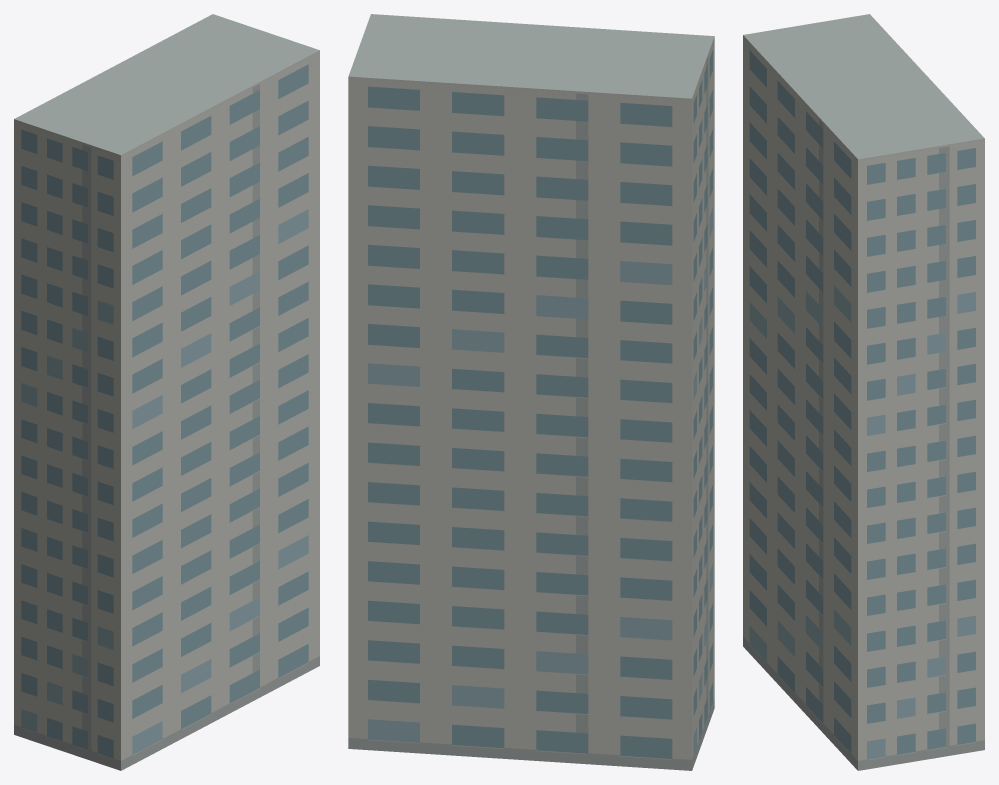
Rendered from residential-b6b8a553-4b9b-4166-84dd-e62b3b249bd4.glb.
The picture shows the model from 3 angles, left to right: view 1: azimuth 30°, elevation 25°; view 2: azimuth 150°, elevation 25°; view 3: azimuth 270°, elevation 25°; orthographic projection. The views are drawn at different scales.
Parts seen in each view (by area): view 1: residential-b6b8a553-4b9b-4166-84dd-e62b3b249bd4.tmp; view 2: residential-b6b8a553-4b9b-4166-84dd-e62b3b249bd4.tmp; view 3: residential-b6b8a553-4b9b-4166-84dd-e62b3b249bd4.tmp.
Part boxes in pixels (left/top/right/bottom): residential-b6b8a553-4b9b-4166-84dd-e62b3b249bd4.tmp: left=14, top=14, right=319, bottom=770; residential-b6b8a553-4b9b-4166-84dd-e62b3b249bd4.tmp: left=348, top=14, right=714, bottom=770; residential-b6b8a553-4b9b-4166-84dd-e62b3b249bd4.tmp: left=743, top=14, right=984, bottom=770.
Size of the model in its own units: 36.21 by 71 by 25.46.
